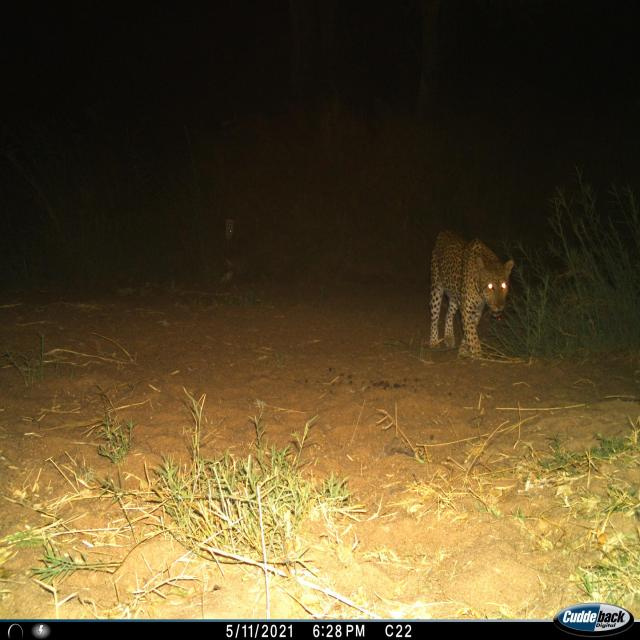Leopard: (421, 230, 512, 358)
